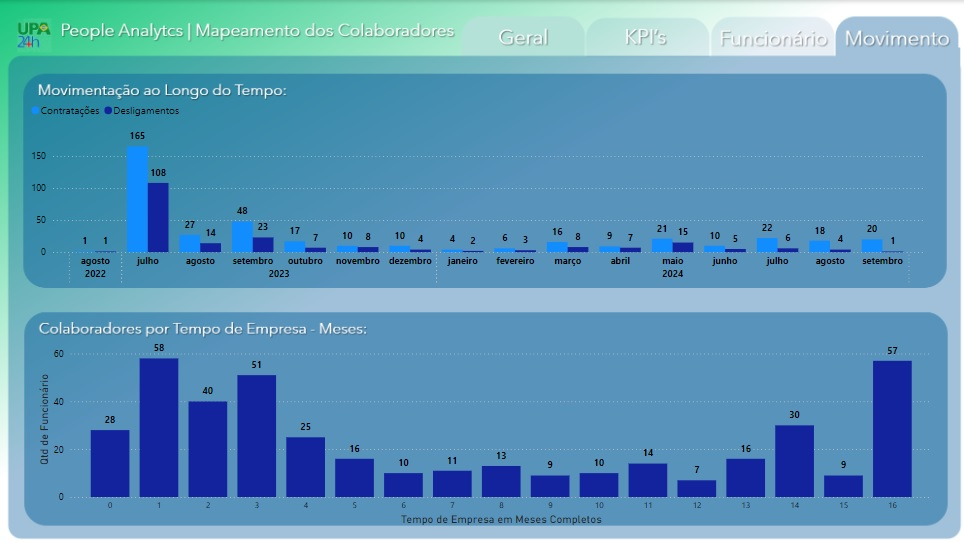

The dashboard page shown, as its layout file describes it:
{"tool":"powerbi","page":{"name":"Movimentação","canvas":[1280,720],"ordinal":3},"visuals":[{"type":"clusteredColumnChart","title":"Movimentação ao Longo do Tempo","fields":{"Y":["CountNonNull(Geral.Admissão)","CountNonNull(Geral.Data do Desligamento)"],"Category":["Geral.Admissão.Variation.Hierarquia de datas.Ano","Geral.Admissão.Variation.Hierarquia de datas.Mês"]},"box":[35.9,125.2,1188.4,258.6],"z":0},{"type":"pageNavigator","box":[612.2,20.9,649.3,55.7],"z":1000},{"type":"clusteredColumnChart","title":"Colaboradores por Tempo de Empresa (Meses)","fields":{"Category":["Geral (2).Tempo de Empresa"],"Y":["CountNonNull(Geral (2).ID)"]},"box":[45.2,435.9,1188.4,260.9],"z":2000}]}

Visuals, with their boxes in screenshot pixels (x1, y1, x2, y2), scaled from the page's 1280x720 canvas onto the 964x542 screenshot:
"Movimentação ao Longo do Tempo" clusteredColumnChart: bbox=(27, 94, 922, 289)
pageNavigator: bbox=(461, 16, 950, 58)
"Colaboradores por Tempo de Empresa (Meses)" clusteredColumnChart: bbox=(34, 328, 929, 525)
